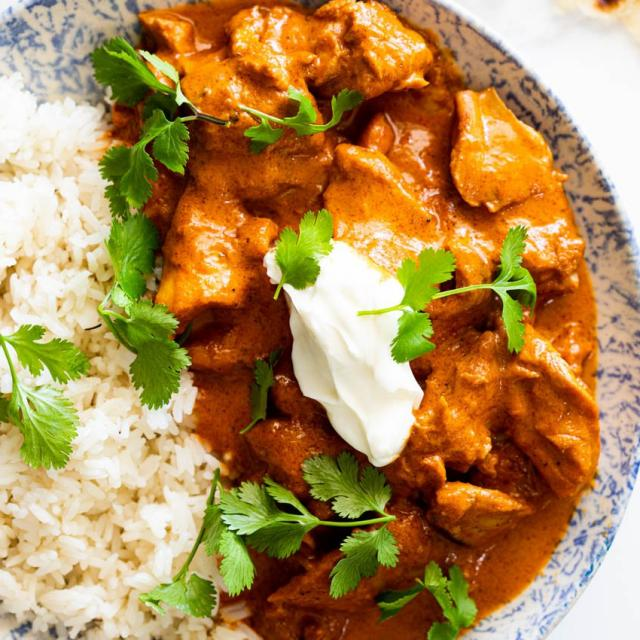Butter Chicken: (172, 2, 594, 640)
